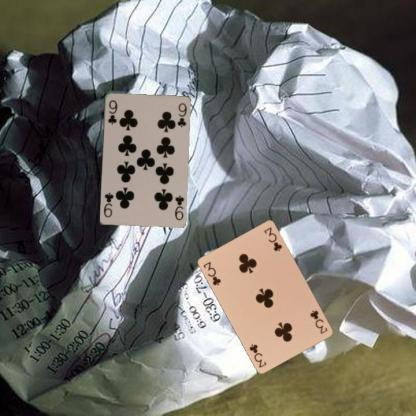3c: (201, 258, 222, 288), (307, 308, 329, 335)
9c: (106, 96, 118, 126), (172, 192, 184, 222)
